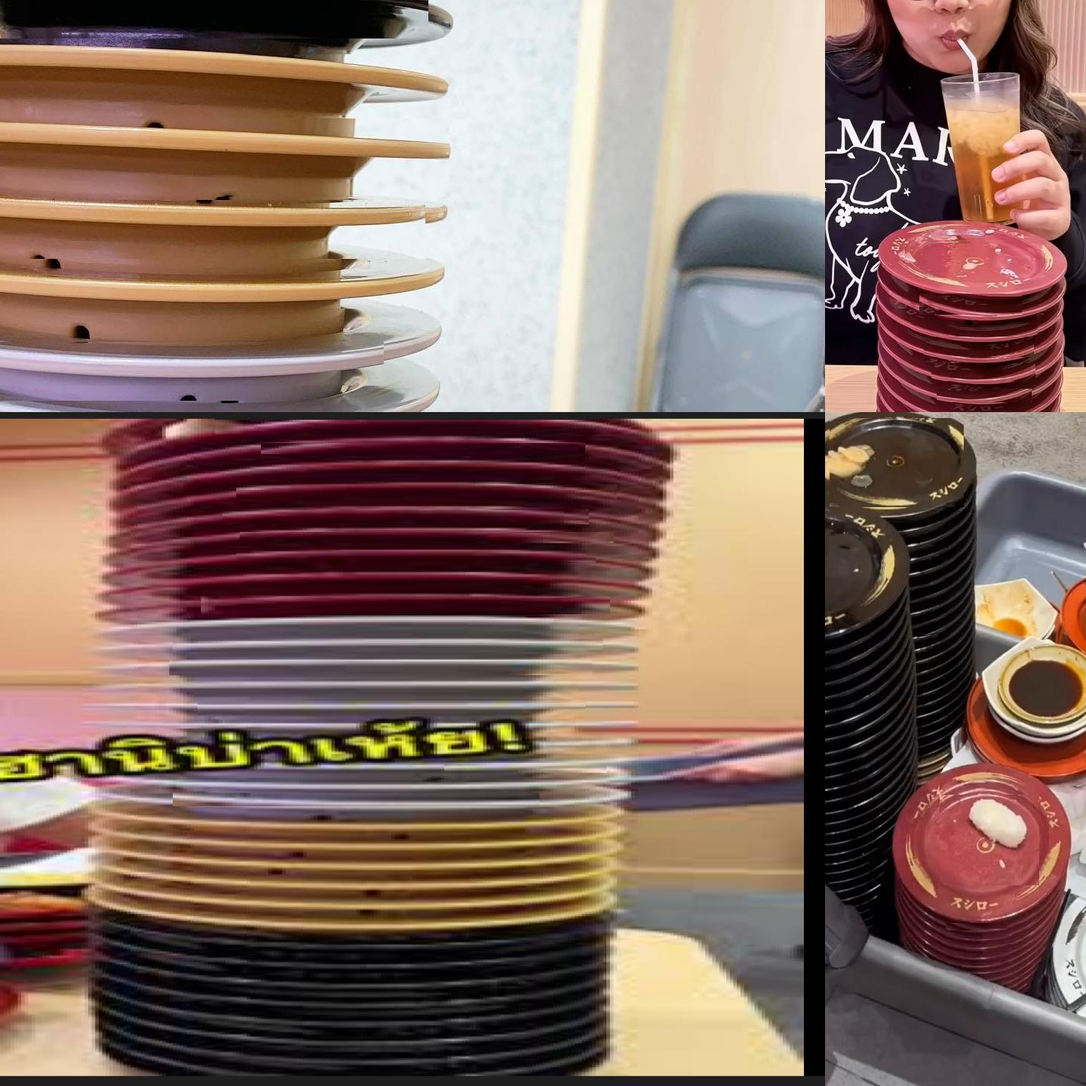Janback: (0, 0, 451, 41), (825, 414, 970, 512), (121, 554, 574, 577), (141, 600, 596, 620), (150, 621, 622, 637), (135, 634, 623, 649), (825, 509, 884, 620), (154, 582, 579, 597), (131, 528, 614, 541), (189, 546, 571, 559), (145, 652, 602, 662), (159, 540, 568, 548), (901, 518, 948, 536), (912, 538, 960, 550), (919, 681, 950, 699), (919, 660, 957, 673), (825, 635, 857, 650), (825, 667, 864, 678), (919, 648, 961, 658), (920, 605, 954, 616), (927, 734, 949, 750), (925, 726, 955, 737), (923, 714, 950, 726), (919, 588, 951, 598), (921, 703, 950, 714), (913, 567, 950, 575), (825, 653, 854, 663), (914, 556, 947, 564), (825, 764, 861, 771), (825, 684, 845, 696), (918, 675, 957, 681), (825, 700, 851, 709), (825, 725, 844, 736), (917, 581, 954, 586), (918, 698, 954, 703), (825, 788, 843, 796), (825, 742, 845, 749), (920, 621, 943, 627), (916, 634, 941, 639), (825, 753, 839, 761), (825, 714, 843, 719)
Jangold: (0, 118, 453, 198), (0, 54, 465, 129), (0, 198, 438, 261), (0, 255, 429, 312), (121, 477, 601, 495), (121, 426, 605, 442), (101, 494, 623, 508), (143, 444, 628, 459), (129, 465, 591, 477), (127, 412, 615, 420)
Janred: (932, 787, 1048, 893), (893, 239, 1059, 282), (910, 292, 1032, 317), (927, 362, 1041, 383), (920, 341, 1039, 358), (910, 323, 1039, 337), (929, 388, 1039, 404), (940, 923, 1014, 932), (948, 944, 1015, 951), (942, 935, 1015, 940), (992, 974, 1025, 981), (983, 968, 1016, 974), (952, 956, 1005, 959), (972, 962, 1016, 965)
Janwhite: (0, 339, 407, 388), (0, 396, 351, 412)
